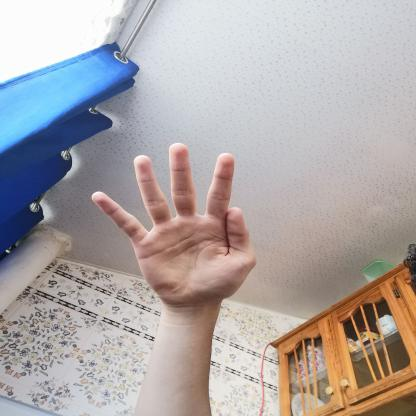SHEEN: (84, 137, 266, 312)
